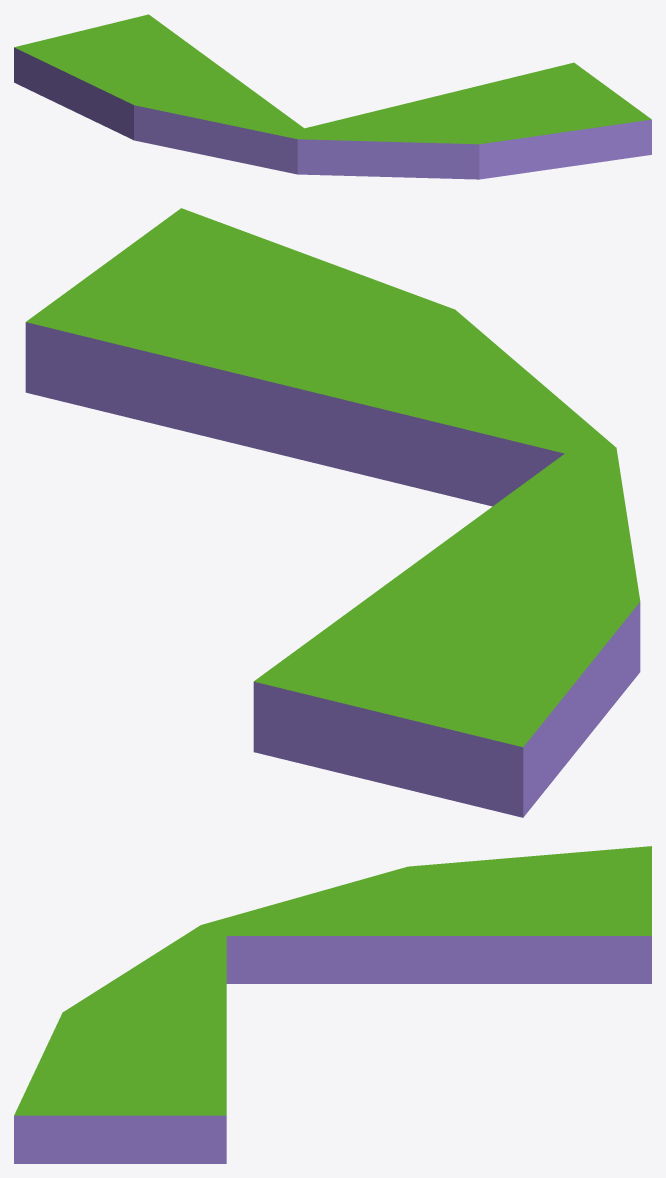
Rendered from Tiered_Grass_Curve_Outer_3x3.glb.
3 renders of one model, top to bottom at view 1: azimuth 30°, elevation 25°; view 2: azimuth 150°, elevation 25°; view 3: azimuth 270°, elevation 25°, orthographic. The views are drawn at different scales.
Parts seen in each view (by area): view 1: Tiered_Grass_Curve_Outer_3x3; view 2: Tiered_Grass_Curve_Outer_3x3; view 3: Tiered_Grass_Curve_Outer_3x3.
Boxes of the visible parts, bbox=[...] form: Tiered_Grass_Curve_Outer_3x3: bbox=[14, 14, 651, 179]; Tiered_Grass_Curve_Outer_3x3: bbox=[25, 208, 640, 817]; Tiered_Grass_Curve_Outer_3x3: bbox=[14, 846, 651, 1163].
Size of the model in its own units: 300 by 25 by 300.
